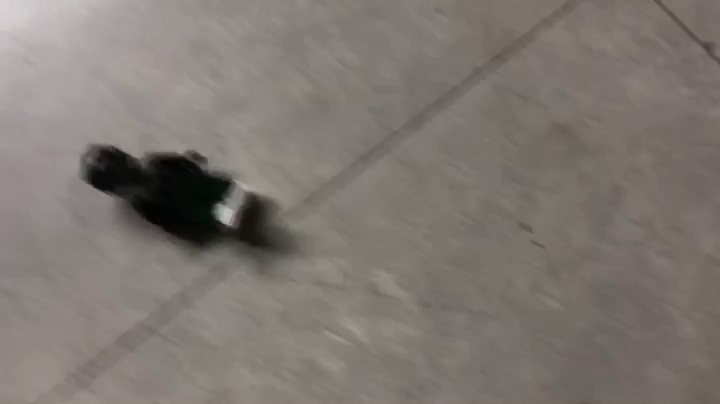people: (77, 141, 287, 252)
